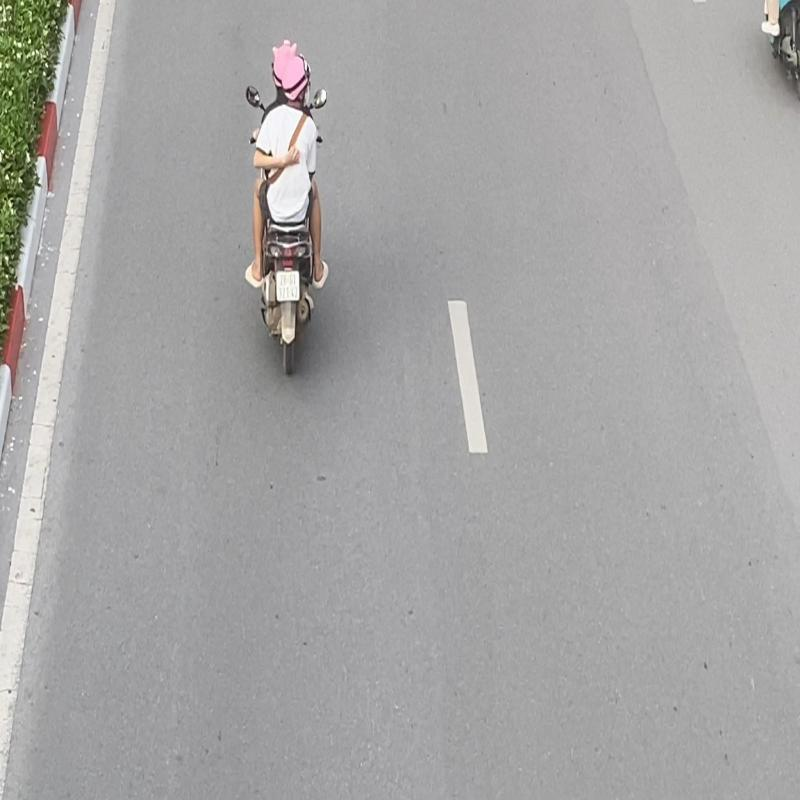helmet: (281, 53, 312, 104), (272, 38, 300, 92)
licenseplate: (276, 272, 300, 300)
motorcyclist: (241, 34, 337, 377)
